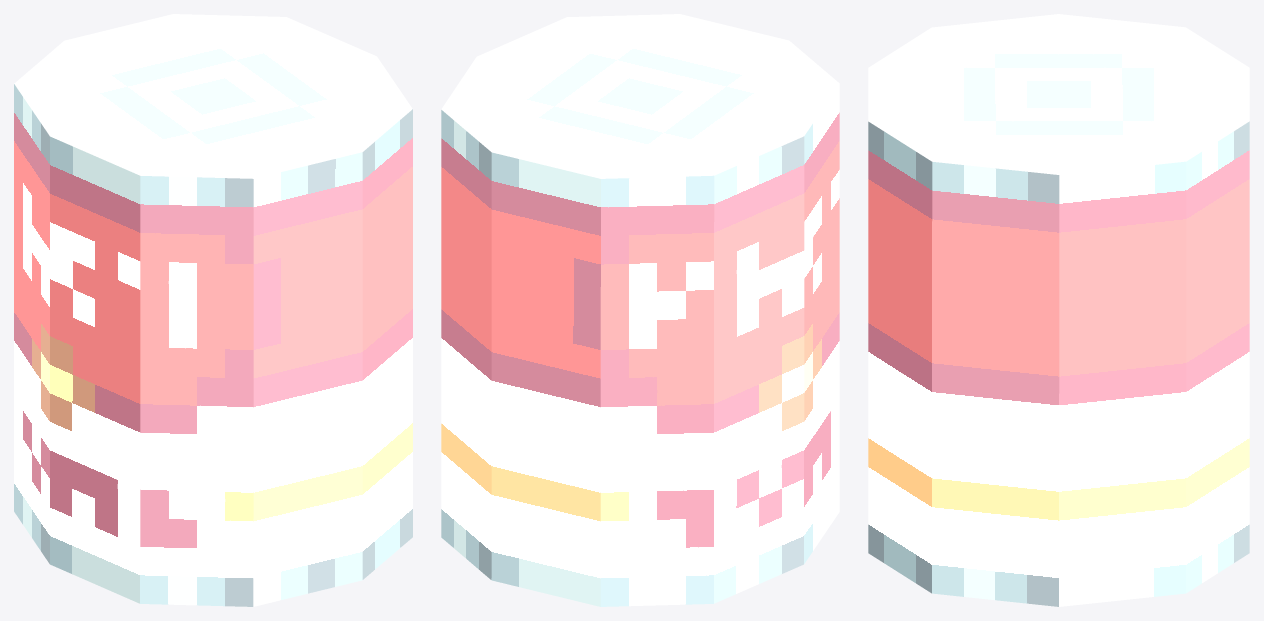
The model's file is can.glb.
3 views of the same model, side by side, from view 1: azimuth 30°, elevation 25°; view 2: azimuth 150°, elevation 25°; view 3: azimuth 270°, elevation 25° (orthographic).
Visible parts, largest first — view 1: Cylinder_0; view 2: Cylinder_0; view 3: Cylinder_0.
Part boxes in pixels (bbox=[...]): Cylinder_0: bbox=[14, 14, 412, 606]; Cylinder_0: bbox=[441, 14, 839, 606]; Cylinder_0: bbox=[868, 14, 1249, 606].
Bounding box in the file's own units: 0.75 × 0.9375 × 0.7504.
